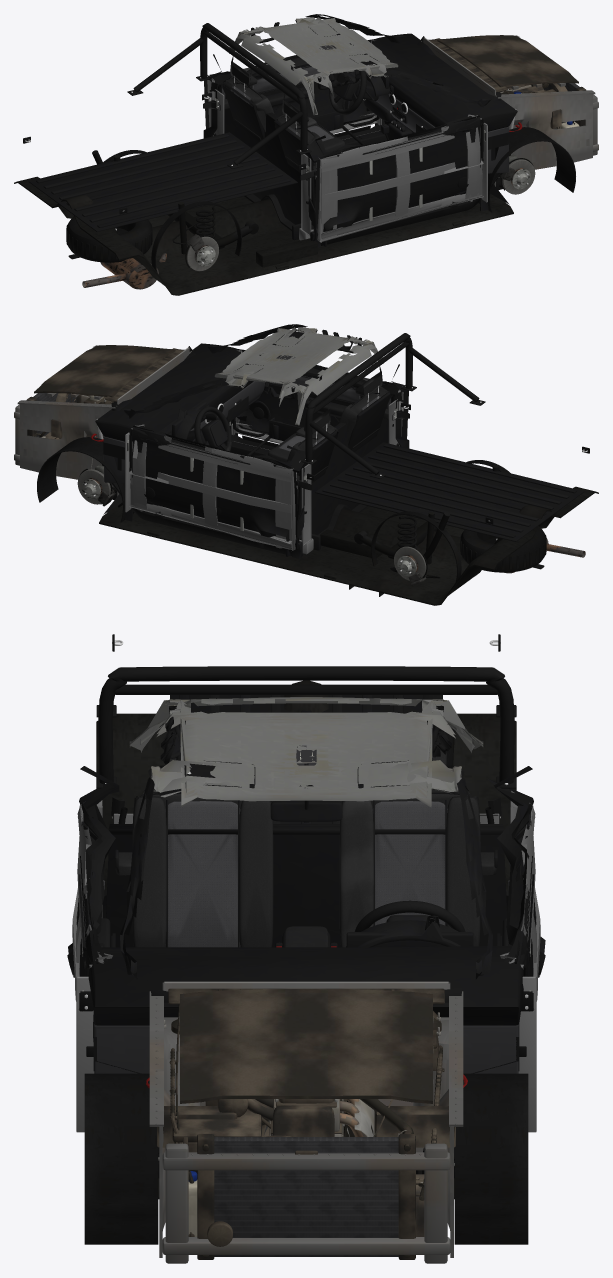
Rendered from tropeiro_completo.glb.
3 renders of one model, top to bottom at view 1: azimuth 30°, elevation 25°; view 2: azimuth 150°, elevation 25°; view 3: azimuth 270°, elevation 25°, orthographic. The views are drawn at different scales.
Parts seen in each view (by area): view 1: cargo_protetor, under_assoalho, interior_painel, door_card_fr_chapa, door_card_fr, interior_forro_teto, engine_paralama_interno_dir, hood_manta, cargo_santantonio, door_card_fl, interior_banco_dianteiro_esq, interior_parede_cabine (+22 smaller); view 2: cargo_protetor, under_assoalho, interior_painel, door_card_fl_chapa, door_card_fl, interior_forro_teto, engine_paralama_interno_esq, hood_manta, door_card_fr, cargo_santantonio, interior_banco_dianteiro_dir, interior_parede_cabine (+22 smaller); view 3: interior_painel, hood_manta, interior_forro_teto, interior_banco_dianteiro_dir, engine_radiador, engine_travessa, interior_banco_dianteiro_esq, cargo_santantonio, interior_parede_cabine, under_caixa_roda_fr, under_caixa_roda_fl, under_assoalho (+18 smaller).
Part boxes in pixels (<box>): cargo_protetor: <box>28,132,297,231</box>; under_assoalho: <box>14,176,513,295</box>; interior_painel: <box>347,33,517,173</box>; door_card_fr_chapa: <box>316,114,483,242</box>; door_card_fr: <box>321,115,480,231</box>; interior_forro_teto: <box>229,18,398,115</box>; engine_paralama_interno_dir: <box>494,88,595,177</box>; hood_manta: <box>437,35,578,89</box>; cargo_santantonio: <box>127,23,311,168</box>; door_card_fl: <box>210,39,375,132</box>; interior_banco_dianteiro_esq: <box>222,52,344,152</box>; interior_parede_cabine: <box>224,94,326,246</box>; cargo_protetor: <box>315,442,584,541</box>; under_assoalho: <box>99,486,598,605</box>; interior_painel: <box>95,343,264,483</box>; door_card_fl_chapa: <box>129,424,300,550</box>; door_card_fl: <box>132,425,292,541</box>; interior_forro_teto: <box>214,328,383,425</box>; engine_paralama_interno_esq: <box>17,398,116,487</box>; hood_manta: <box>34,345,175,399</box>; door_card_fr: <box>237,349,401,441</box>; cargo_santantonio: <box>301,333,485,478</box>; interior_banco_dianteiro_dir: <box>268,362,390,462</box>; interior_parede_cabine: <box>286,405,388,556</box>; interior_painel: <box>84,915,528,1073</box>; hood_manta: <box>179,989,433,1103</box>; interior_forro_teto: <box>129,697,483,807</box>; interior_banco_dianteiro_dir: <box>132,729,282,947</box>; engine_radiador: <box>197,1134,415,1259</box>; engine_travessa: <box>157,1099,455,1263</box>; interior_banco_dianteiro_esq: <box>330,729,480,947</box>; cargo_santantonio: <box>96,666,516,788</box>; interior_parede_cabine: <box>105,824,506,947</box>; under_caixa_roda_fr: <box>84,1073,158,1244</box>; under_caixa_roda_fl: <box>454,1073,528,1244</box>; under_assoalho: <box>96,680,516,1199</box>.
Size of what is drawn, in the model's own units: 4.08 by 1.47 by 1.66.
Materials: 53 (53 with a texture image).
